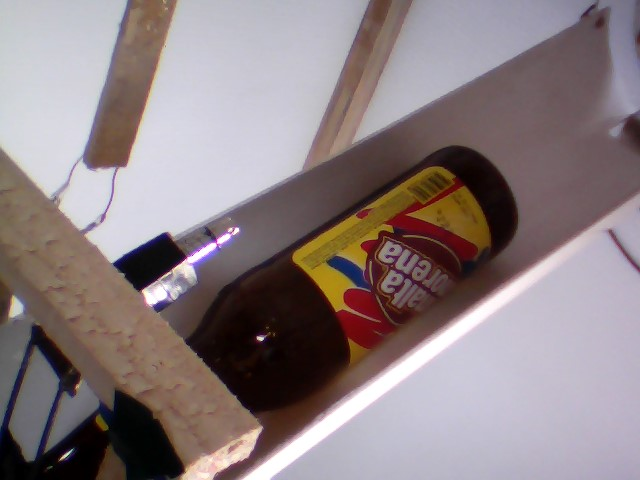vidrio: (175, 138, 527, 419)
